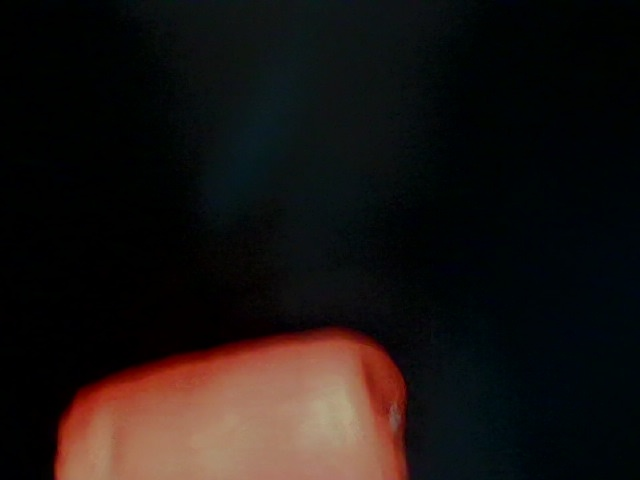QTLJ: (98, 1, 348, 206)
